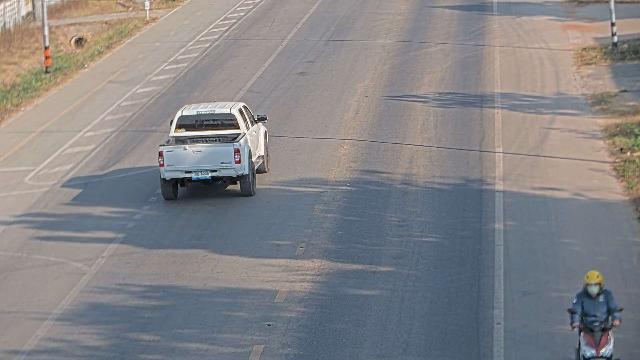pickup-truck: (157, 99, 270, 200)
